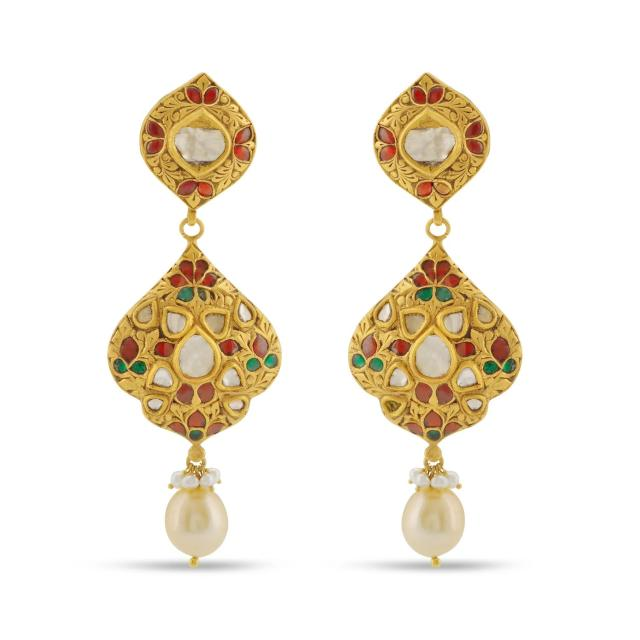missing gem: (385, 401, 400, 412), (437, 183, 448, 193)
